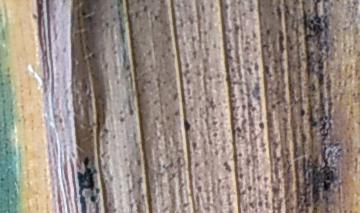tarspot: (77, 155, 97, 213), (184, 118, 191, 133), (323, 179, 330, 192), (90, 194, 97, 203), (95, 187, 101, 195)
